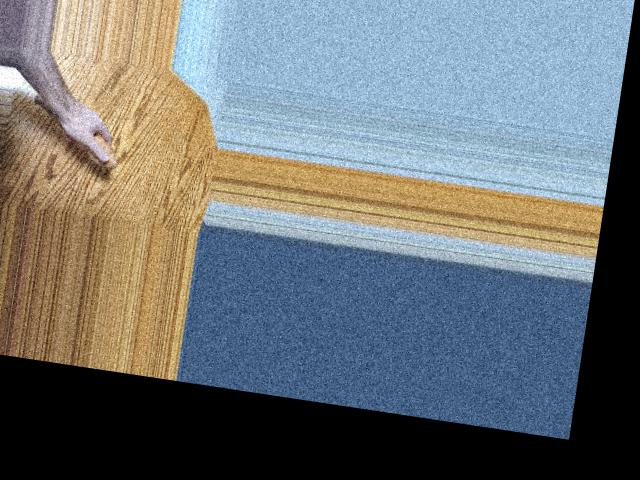sweet_potato: (23, 95, 127, 172)
